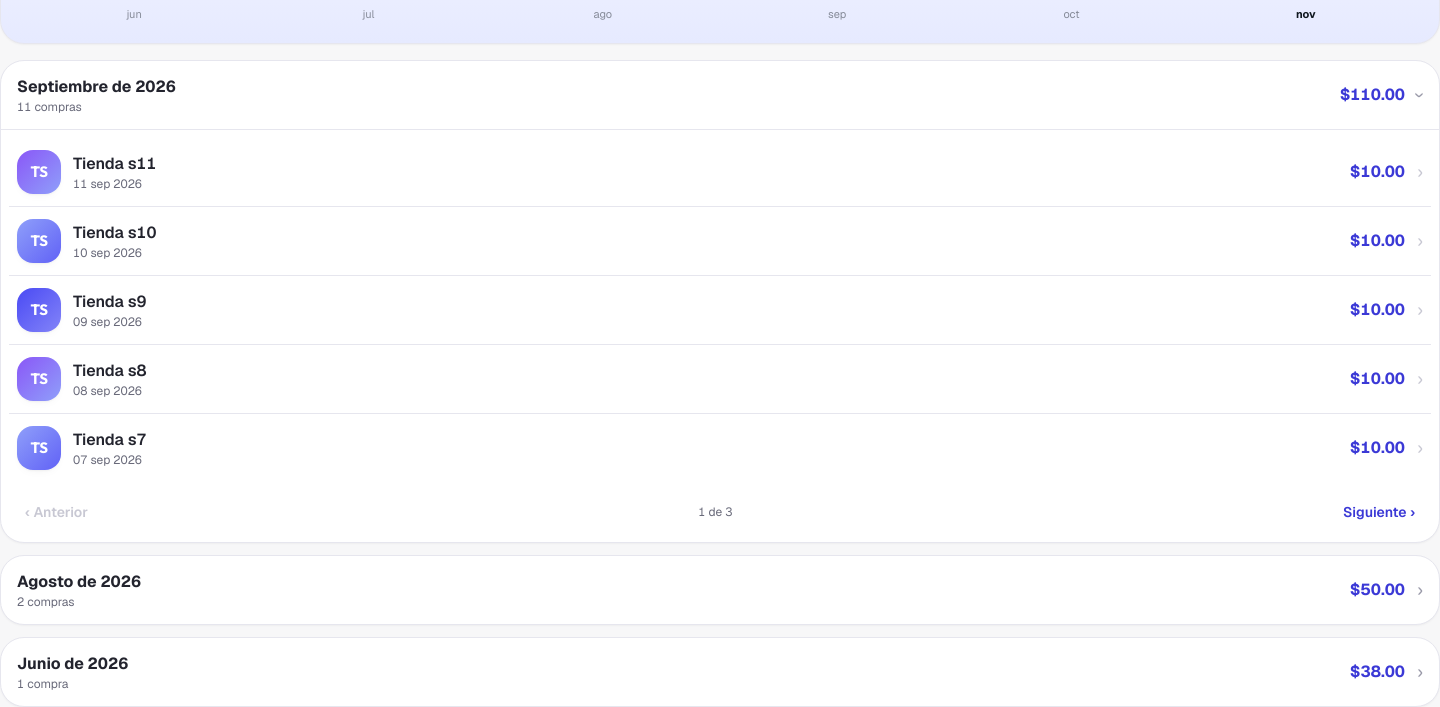
TripsScopedList — por meses › dentro del mes, de cinco en cinco y el más reciente primero
(page scrolled)
Expected: the text "1 de 3" is shown, [698,504,732,520]
Expected: the text "Tienda s11" is shown, [73,153,156,174]
Step 1. Click the button "Siguiente ›" → {"x": 1379, "y": 512}, box [1331,490,1427,534]
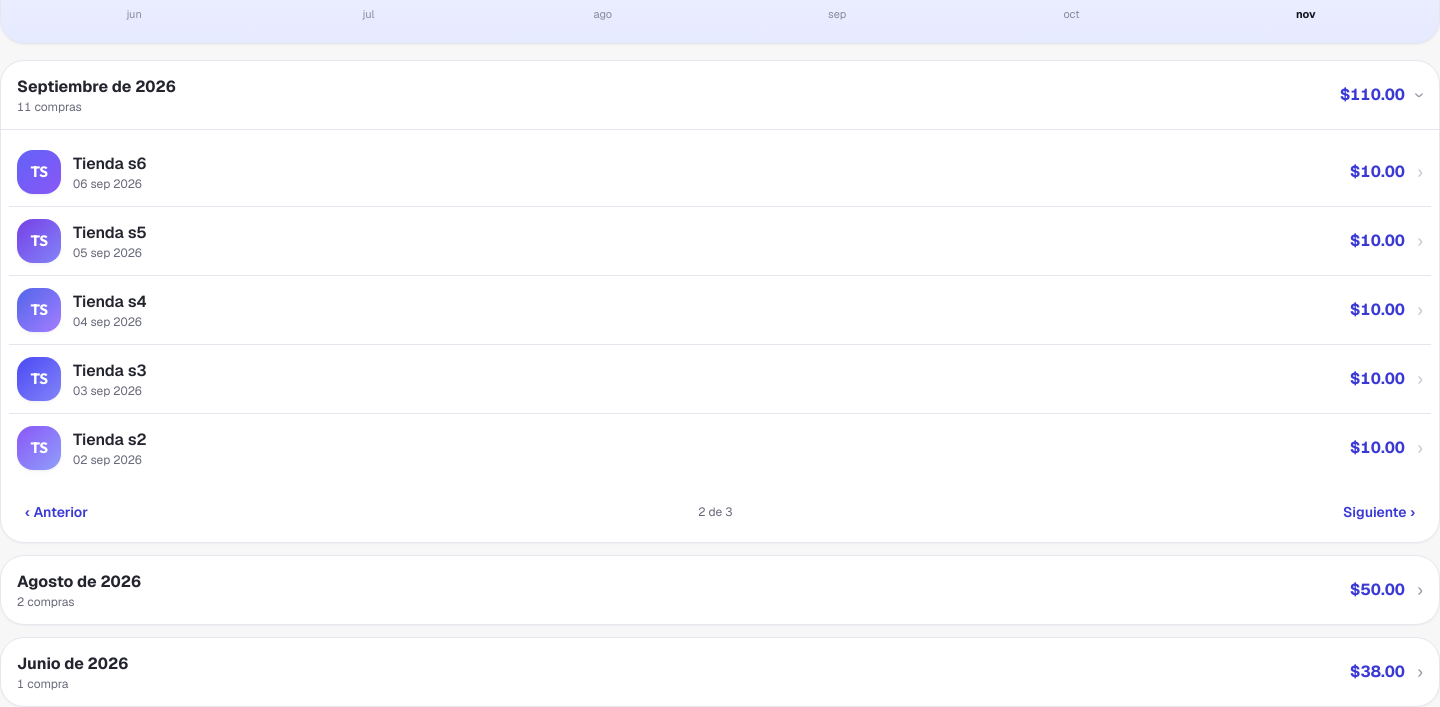
Expected: the text "2 de 3" is shown, [698,504,732,520]
Expected: the text "Tienda s6" is shown, [73,153,146,174]
Expected: the link "Tienda s11" is gone
Step 2. Click the button "Siguiente ›" → {"x": 1379, "y": 512}, box [1331,490,1427,534]
(page scrolled)
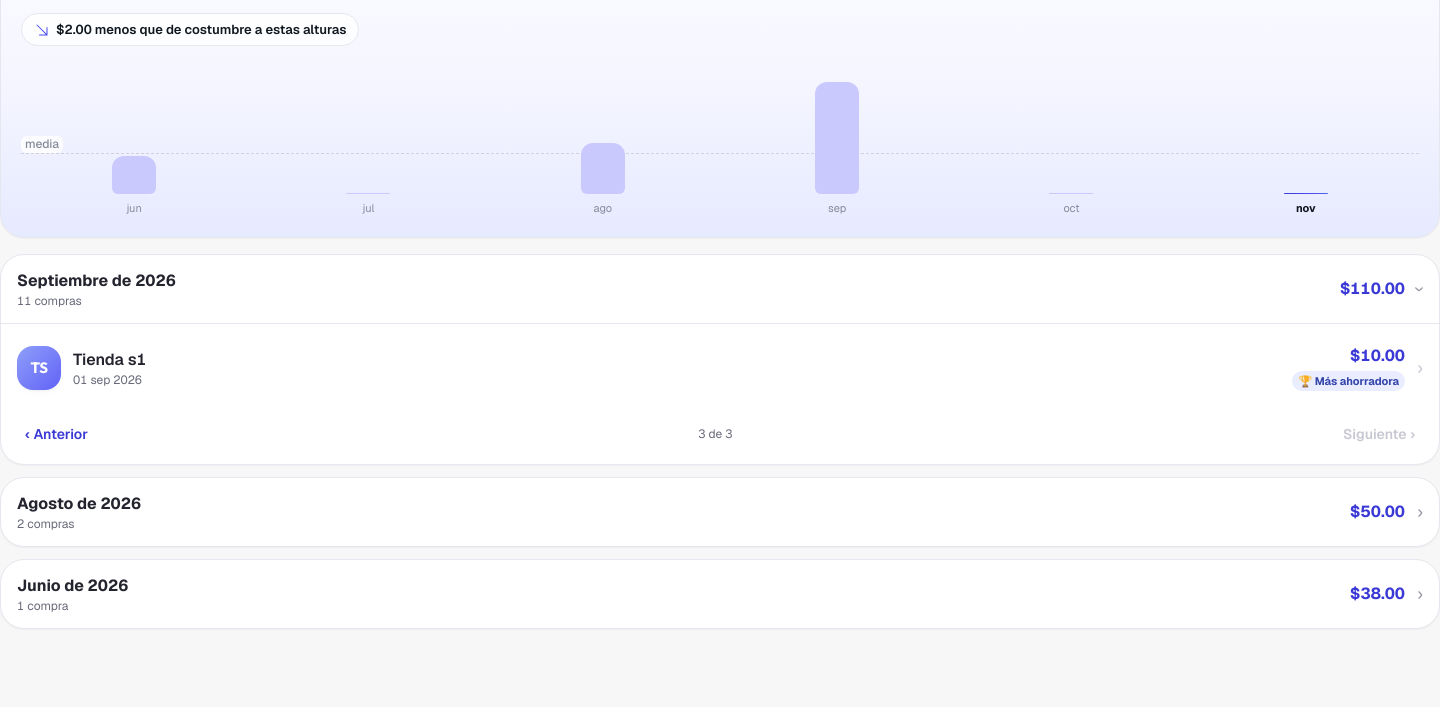
Expected: the text "3 de 3" is shown, [698,426,732,442]
Expected: the text "Tienda s1" is shown, [73,349,146,370]
Expected: the button "Siguiente ›" is disabled, [1331,412,1427,456]
